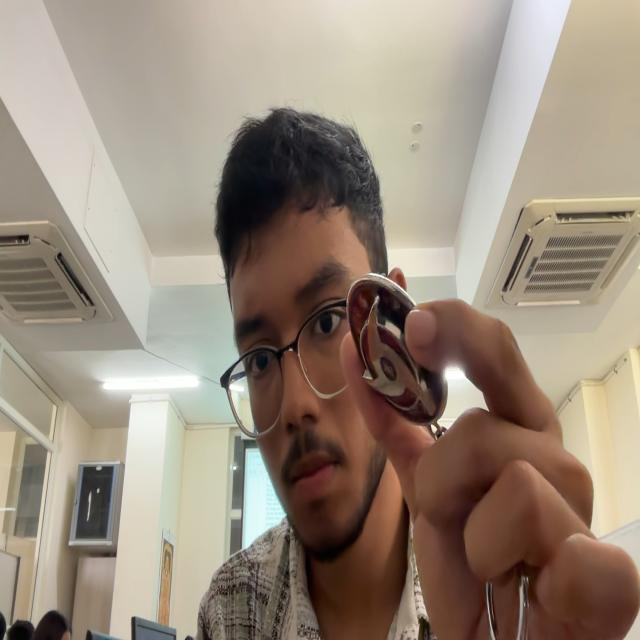dangerous: (346, 264, 448, 439)
